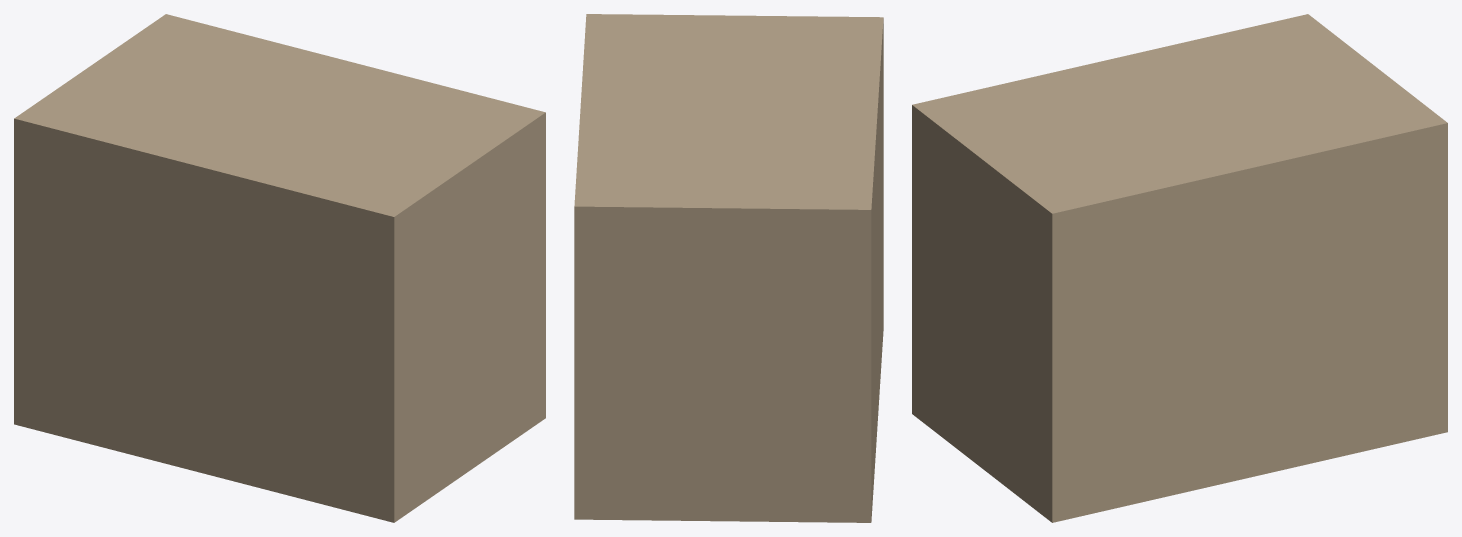
Rendered from bld_101979851.dae.
3 renders of one model, left to right at view 1: azimuth 30°, elevation 25°; view 2: azimuth 150°, elevation 25°; view 3: azimuth 270°, elevation 25°, orthographic. The views are drawn at different scales.
Visible parts, largest first — view 1: bld_101979851; view 2: bld_101979851; view 3: bld_101979851.
Part boxes in pixels (x1=…): bld_101979851: x1=14, y1=14, x2=545, y2=522; bld_101979851: x1=574, y1=14, x2=883, y2=522; bld_101979851: x1=912, y1=14, x2=1447, y2=522.
Bounding box in the file's own units: 11.09 × 12.57 × 8.
